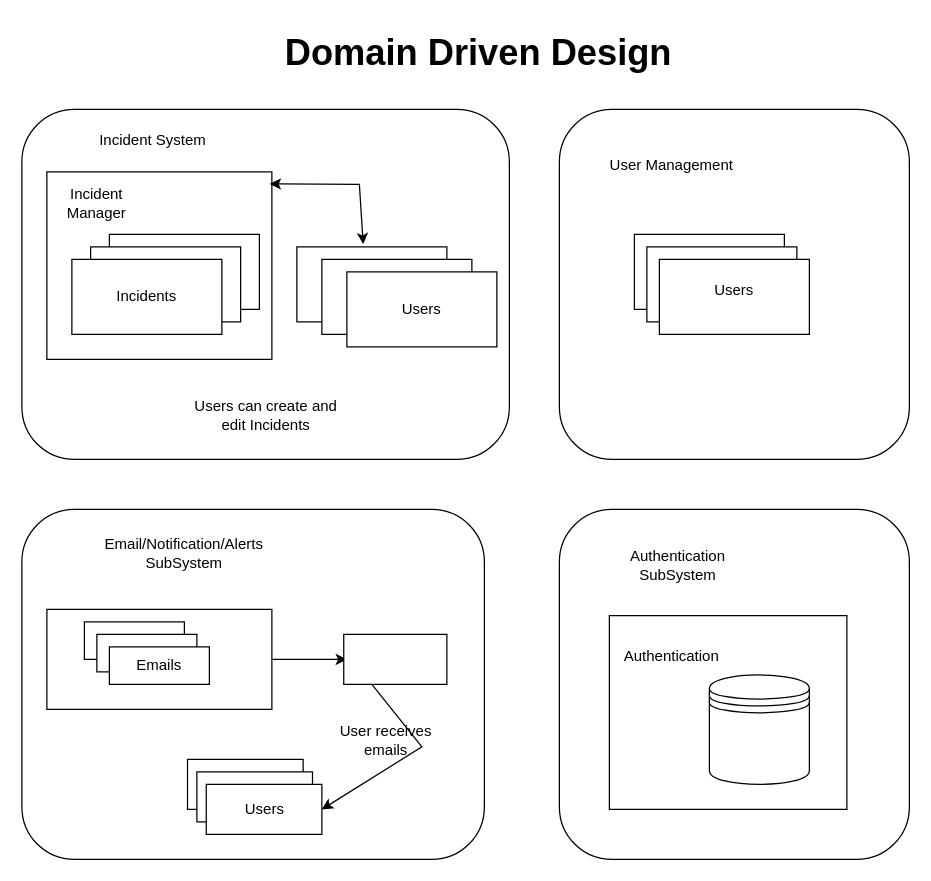
The diagram is 931 pixels wide and 881 high, and some of its shapes have lost their labels. The shapes that lost their labels are listed below. From the top down, each one's box as (x1, y1, x2, y2) in pixels, then its label:
(342, 633, 447, 684): Postman
(708, 674, 809, 784): credentials
